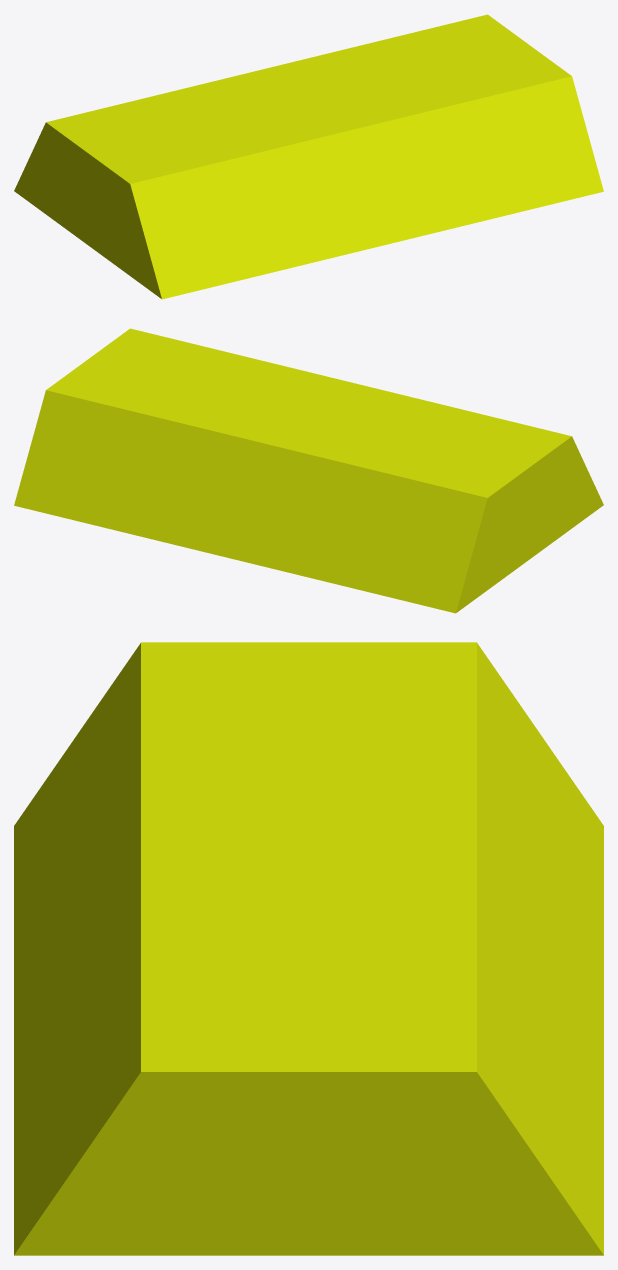
The model's file is gold.fbx.
The picture shows the model from 3 angles, top to bottom: view 1: azimuth 30°, elevation 25°; view 2: azimuth 150°, elevation 25°; view 3: azimuth 270°, elevation 25°; orthographic projection. The views are drawn at different scales.
Visible parts, largest first — view 1: Cube; view 2: Cube; view 3: Cube.
Part boxes in pixels (bbox=[...]): Cube: bbox=[14, 14, 603, 299]; Cube: bbox=[14, 328, 603, 613]; Cube: bbox=[14, 642, 603, 1255].
Size of the model in its own units: 344 by 68.64 by 200.
